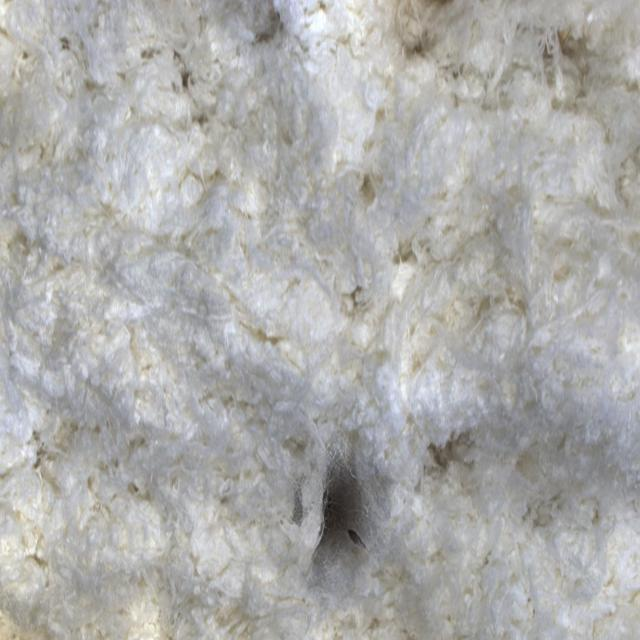dust: (261, 399, 436, 617)
